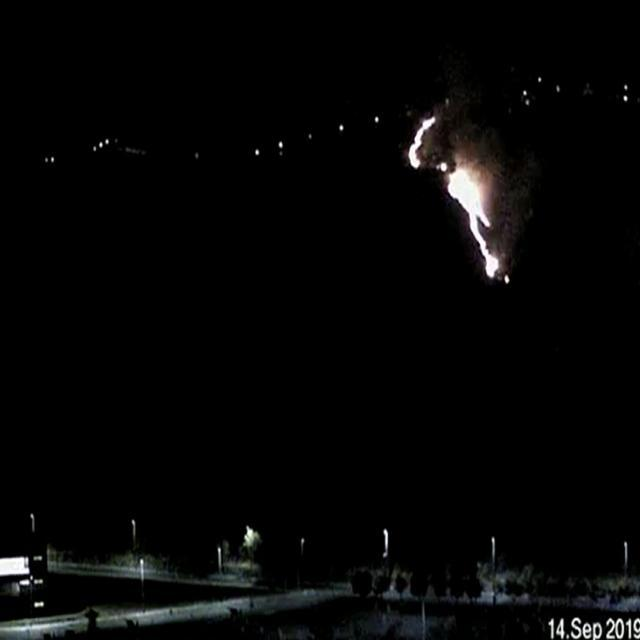Fire: (444, 159, 512, 281), (408, 113, 436, 172)
Smoke: (464, 123, 536, 219)
